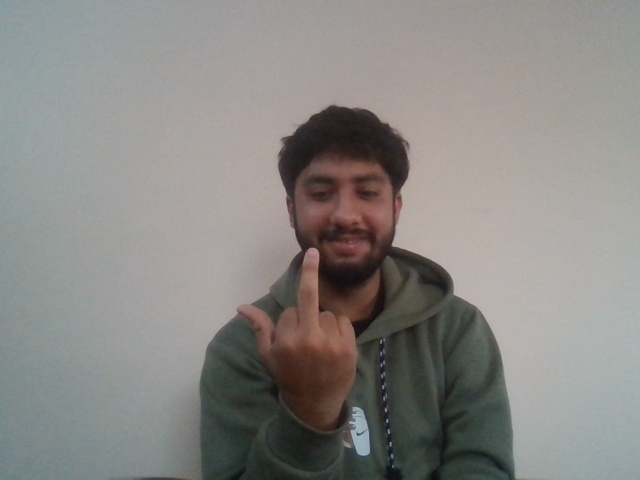Hello: (232, 246, 360, 404)
